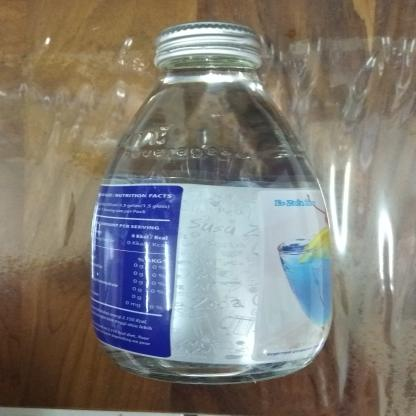keyboard: (78, 19, 340, 388)
